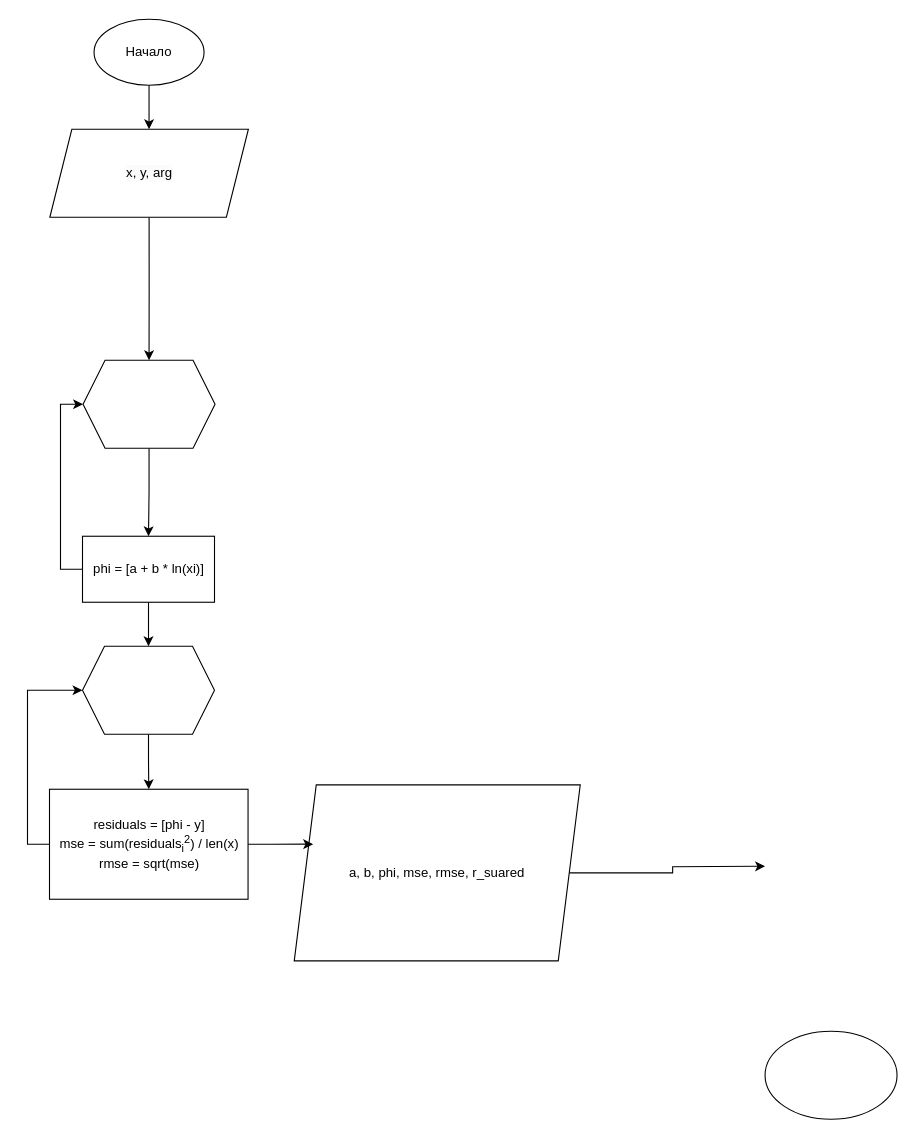
The diagram is 916 pixels wide and 1139 high, and some of its shapes have lost their labels. Each missing label, with the centre of its shape:
"for ph in phi and yi in y" belongs at [148,689].
"for xi in x" belongs at [148,403].
"конец" belongs at [830,1074].
